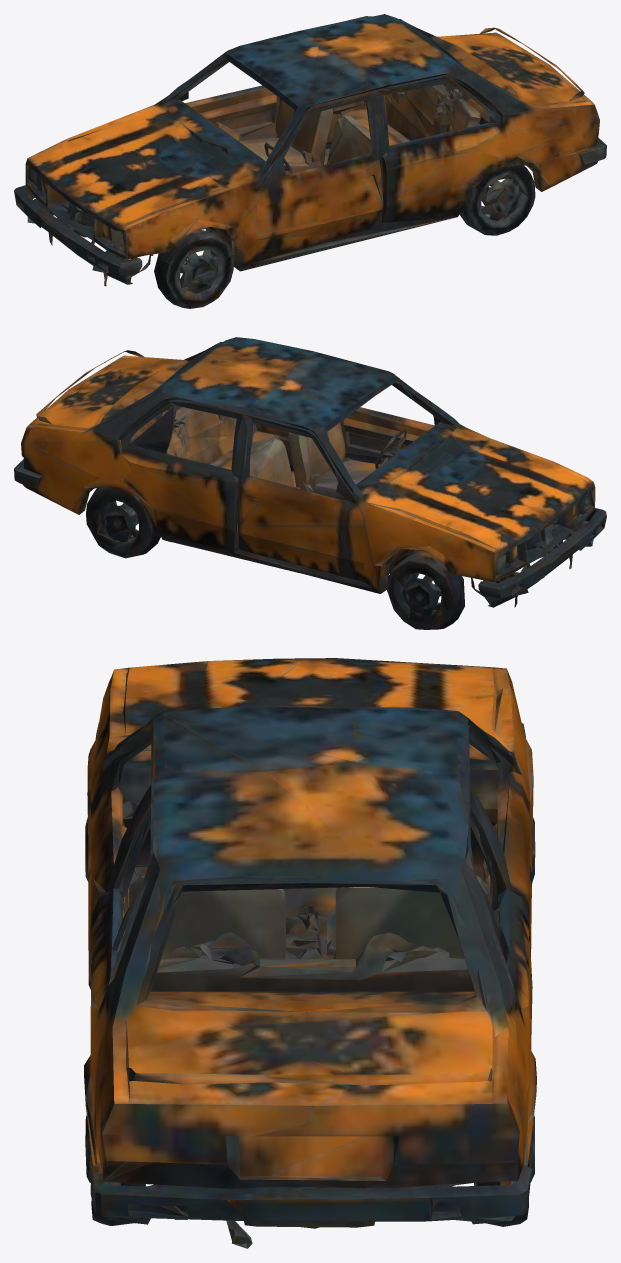
The model's file is prop_burnedcar.glb.
3 renders of one model, top to bottom at view 1: azimuth 30°, elevation 25°; view 2: azimuth 150°, elevation 25°; view 3: azimuth 270°, elevation 25°, orthographic. The views are drawn at different scales.
Bounding box in the file's own units: 1.9 × 0.6156 × 0.7388.
1 material, 1 textured.
